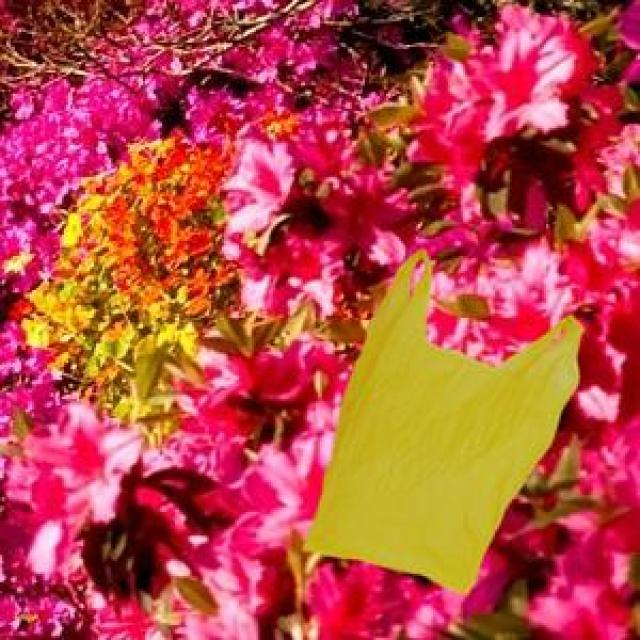Plastic_Bag: (299, 246, 582, 592)
